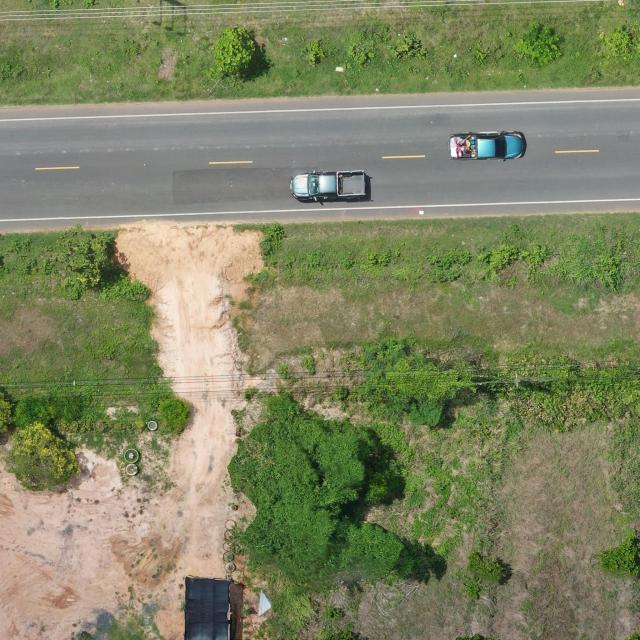Tree: (4, 420, 79, 492), (216, 24, 261, 78)
